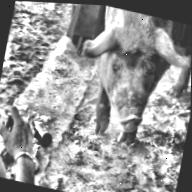boar: (58, 3, 192, 160)
